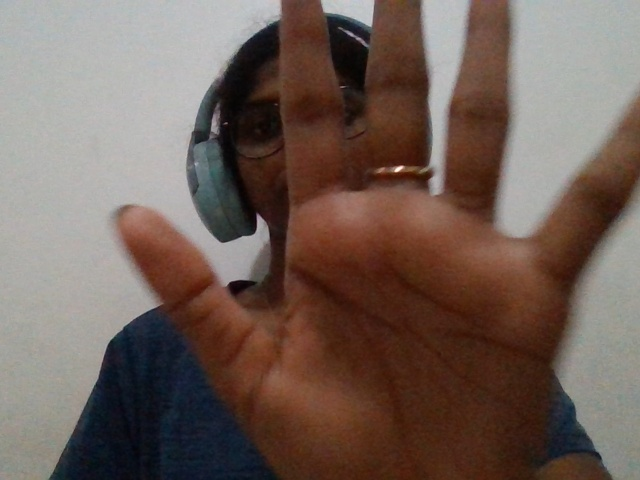Bye: (94, 2, 640, 477)
